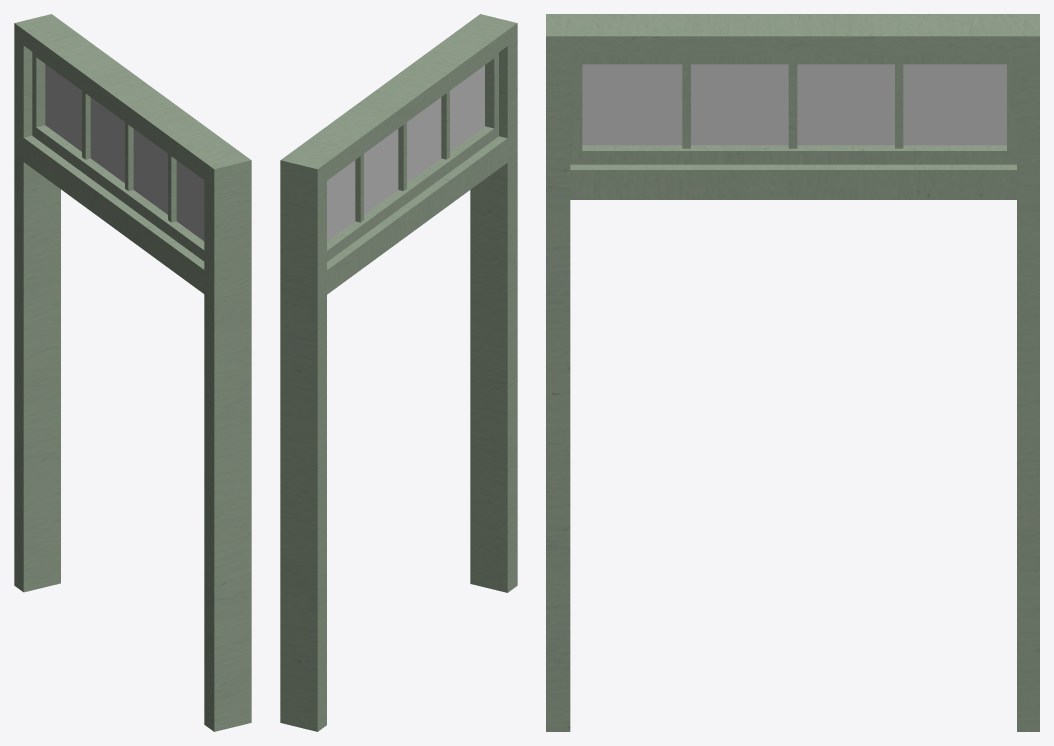
File: SM_WD10_FRAME.fbx
The picture shows the model from 3 angles, left to right: view 1: azimuth 30°, elevation 25°; view 2: azimuth 150°, elevation 25°; view 3: azimuth 270°, elevation 25°; orthographic projection. The views are drawn at different scales.
Parts seen in each view (by area): view 1: SM_WD10_FRAME; view 2: SM_WD10_FRAME; view 3: SM_WD10_FRAME.
Part boxes in pixels (x1,y1,x2,y2): SM_WD10_FRAME: (14,14,251,731); SM_WD10_FRAME: (280,14,517,731); SM_WD10_FRAME: (546,14,1039,731).
Bounding box in the file's own units: 22.58 × 210 × 326.
Materials: 2 (1 with a texture image).
